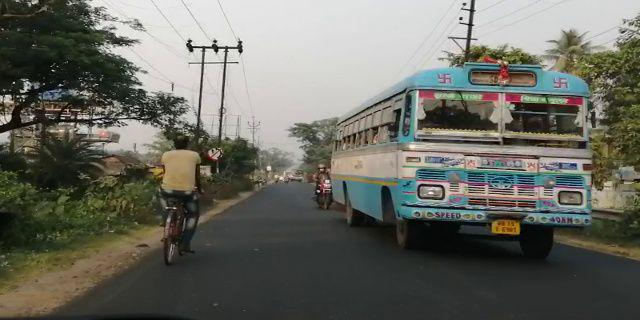Bus: (331, 59, 600, 261)
Cycle: (146, 132, 216, 268)
Motorbike: (308, 163, 335, 213)
